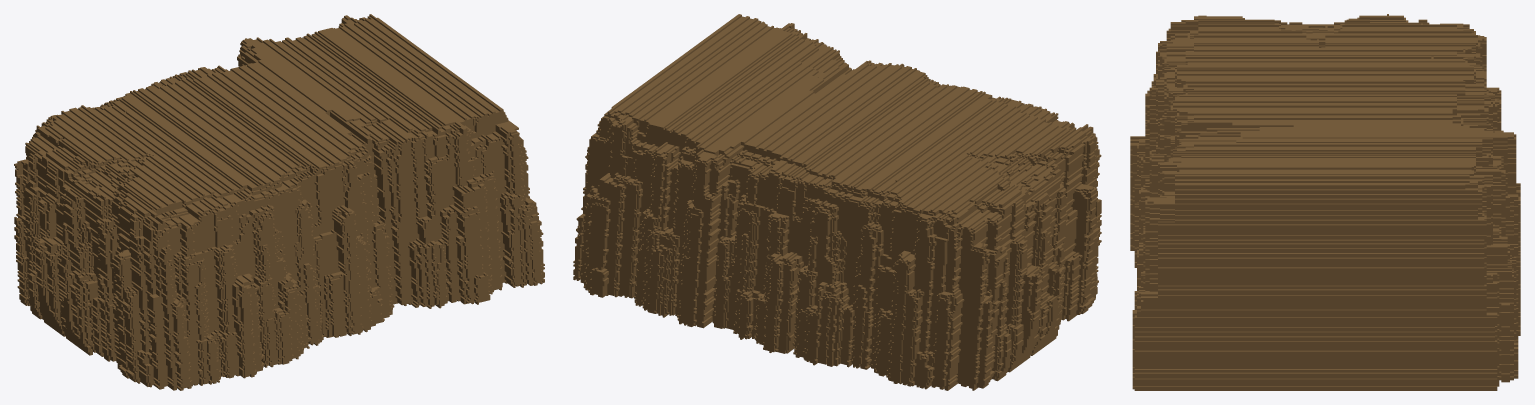
Rendered from forest1.1-94.obj.
3 renders of one model, left to right at view 1: azimuth 30°, elevation 25°; view 2: azimuth 150°, elevation 25°; view 3: azimuth 270°, elevation 25°, orthographic. The views are drawn at different scales.
Bounding box in the file's own units: 25.6 × 11.7 × 18.4.
Materials: 1 (1 with a texture image).
